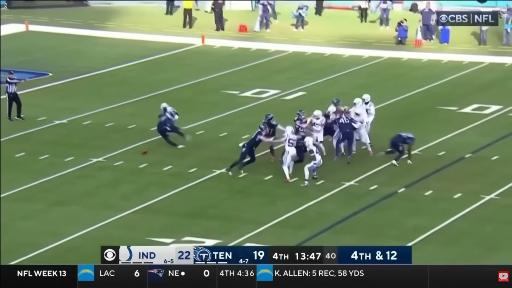Helmet: (166, 106, 178, 115), (304, 137, 313, 147), (259, 124, 268, 133), (327, 106, 336, 114), (313, 110, 322, 118), (167, 106, 177, 113), (354, 98, 362, 106), (285, 126, 293, 134), (362, 94, 370, 102), (264, 114, 273, 121), (343, 107, 350, 115), (332, 99, 340, 106), (161, 103, 168, 110), (297, 110, 305, 116), (343, 107, 349, 111)
Jersey: (310, 116, 325, 142), (244, 130, 264, 149), (336, 115, 358, 132), (157, 114, 174, 133), (350, 105, 367, 123), (307, 146, 322, 166), (263, 119, 278, 137), (294, 116, 307, 134), (394, 133, 415, 144), (311, 117, 325, 133), (162, 107, 178, 121), (364, 102, 375, 121), (284, 134, 297, 150), (326, 105, 337, 122), (296, 132, 305, 150)
Player: (227, 124, 271, 174), (157, 104, 190, 147), (335, 111, 361, 163), (351, 98, 372, 155), (279, 126, 297, 182), (302, 137, 322, 186), (386, 133, 415, 166), (324, 99, 340, 148), (362, 94, 375, 146), (310, 110, 325, 155), (263, 114, 284, 138), (294, 131, 305, 163), (294, 110, 307, 135), (327, 99, 340, 121), (161, 103, 178, 119)
